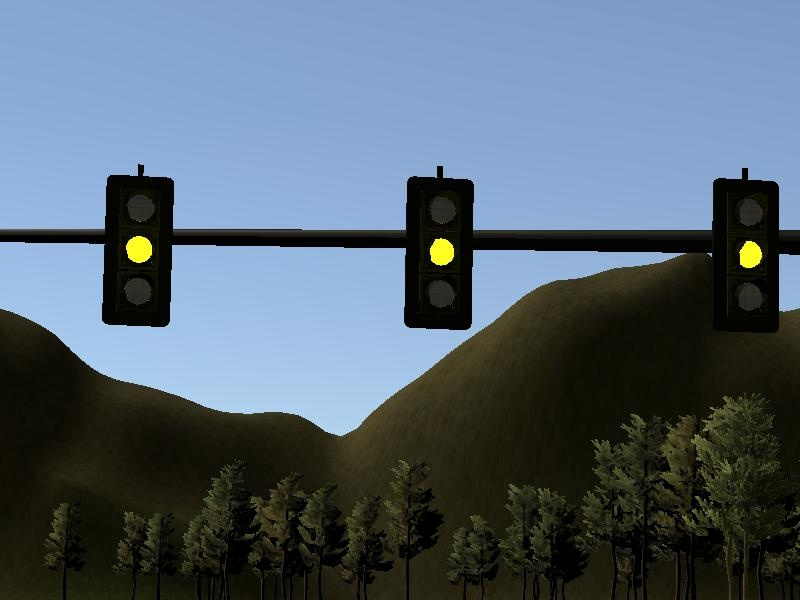yellow: (396, 160, 478, 338), (704, 161, 786, 334), (98, 158, 177, 336)
